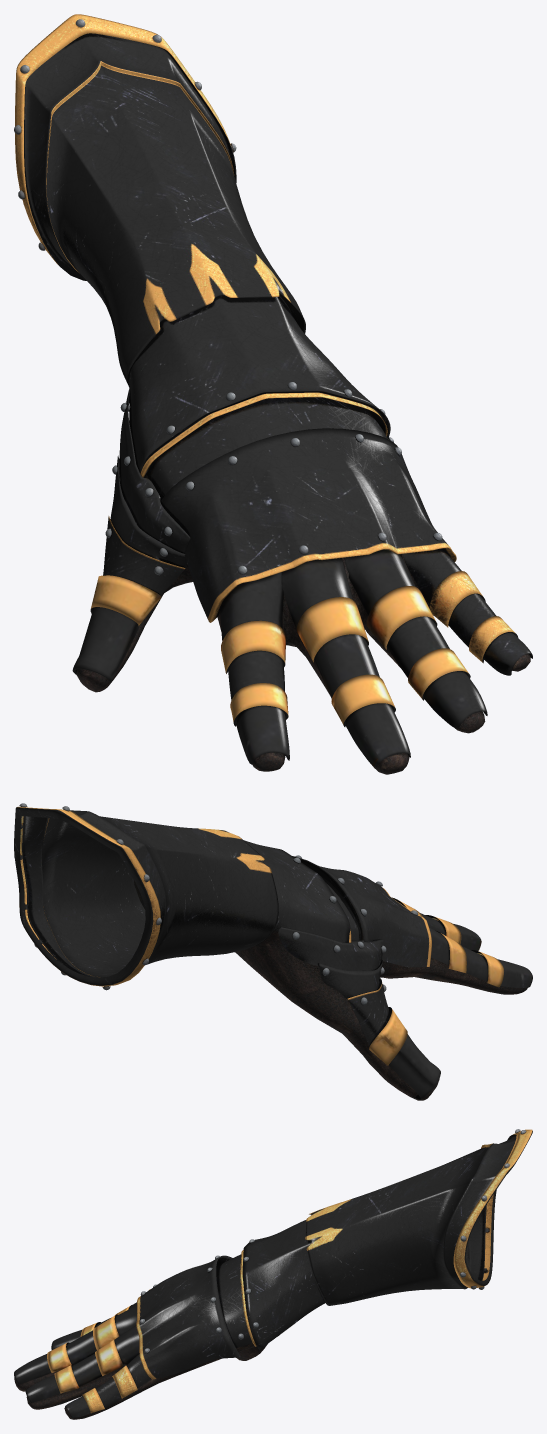
Rendered from manoizquierda.fbx.
3 views of the same model, one above another, from view 1: azimuth 30°, elevation 25°; view 2: azimuth 150°, elevation 25°; view 3: azimuth 270°, elevation 25° (orthographic). The views are drawn at different scales.
Visible parts, largest first — view 1: Plane014, Object031, Object029, Object030, Object032, Object028; view 2: Plane014, Object028, Object032, Object030, Object031; view 3: Plane014, Object029, Object031, Object028, Object030.
Boxes of the visible parts, left/top/right/bottom form: Plane014: left=15, top=14, right=532, bottom=675; Object031: left=281, top=558, right=410, bottom=767; Object029: left=344, top=549, right=487, bottom=728; Object030: left=220, top=572, right=289, bottom=764; Object032: left=72, top=575, right=161, bottom=682; Object028: left=76, top=475, right=530, bottom=774; Plane014: left=14, top=806, right=431, bottom=1046; Object028: left=134, top=880, right=527, bottom=1100; Object032: left=369, top=1007, right=440, bottom=1099; Object030: left=429, top=927, right=532, bottom=987; Object031: left=392, top=897, right=481, bottom=950; Plane014: left=65, top=1129, right=532, bottom=1417; Object029: left=25, top=1325, right=139, bottom=1402; Object031: left=14, top=1305, right=136, bottom=1384; Object028: left=14, top=1335, right=279, bottom=1419; Object030: left=51, top=1302, right=136, bottom=1349.
Bounding box in the file's own units: 621 × 823 × 1317.
Materials: 41 (41 with a texture image).
